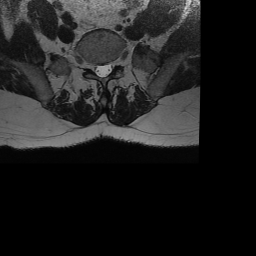CCS_normal: (100, 56, 106, 82)
LFS_normal: (112, 52, 119, 72)
LLS_normal: (106, 56, 112, 80)
RFS_normal: (86, 54, 94, 77)
RLS_normal: (94, 57, 100, 80)
